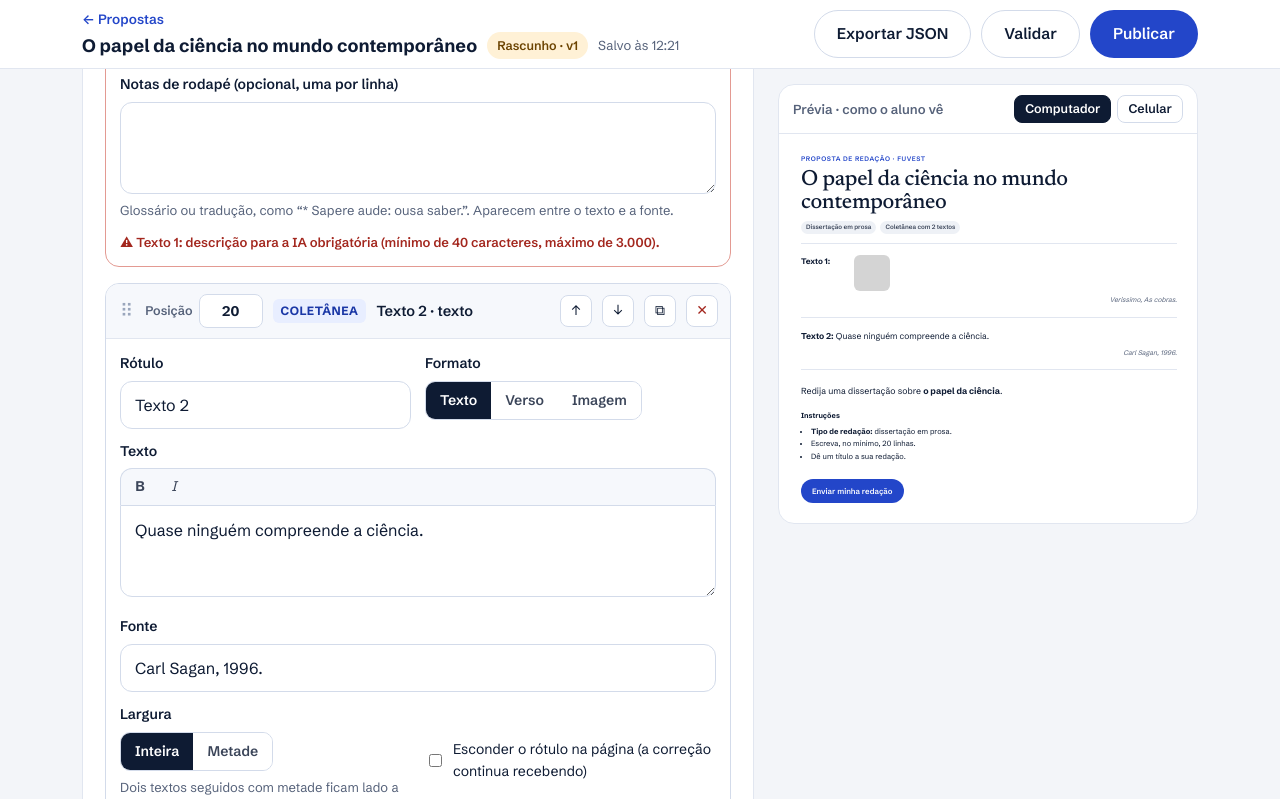
Scenario: Editor da proposta › o formato do texto da coletânea troca os campos do cartão
(page scrolled)
Expected: the text box labelled "Texto" holds "Quase ninguém compreende a ciência.", [120, 505, 716, 597]
Click the radio button labelled "Verso" at [525, 400], box [491, 382, 558, 419]
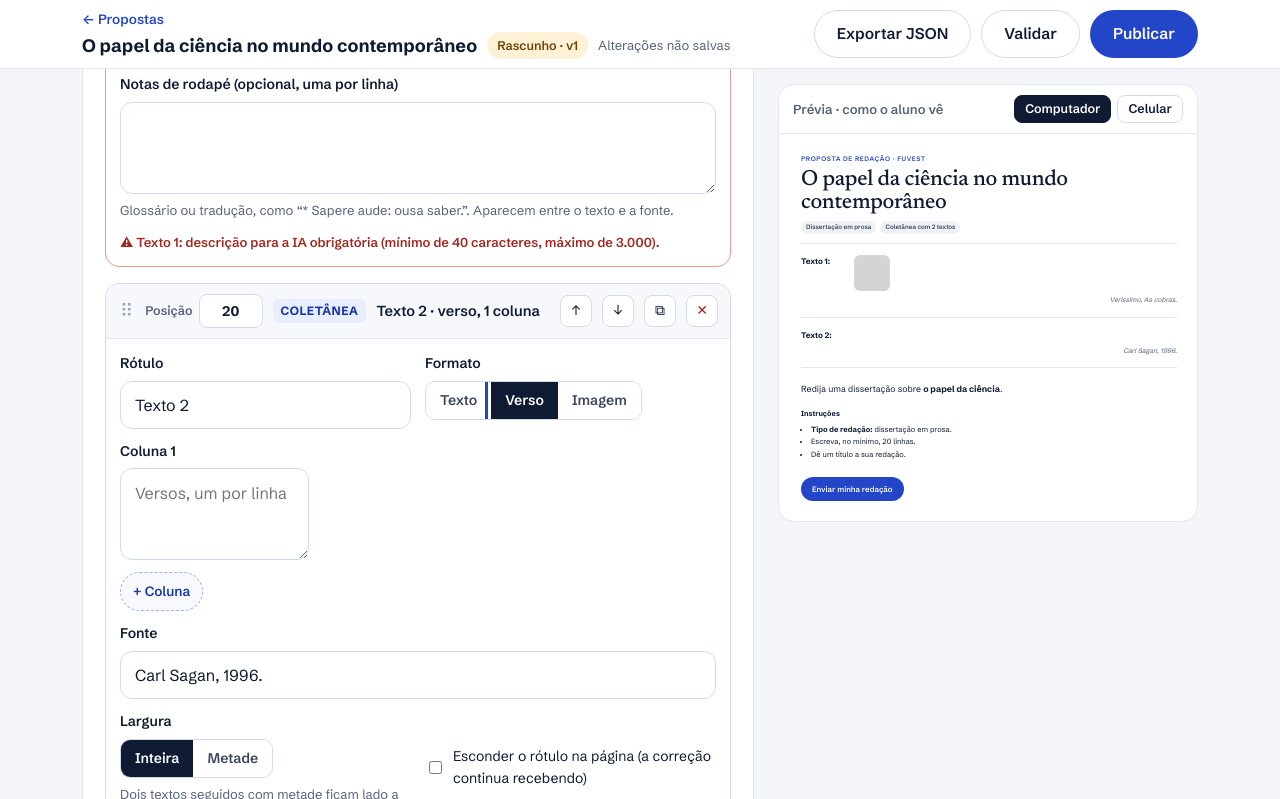
Expected: the text box labelled "Coluna 1" is shown, [120, 468, 309, 560]
Click the button "+ Coluna" at [162, 592], box [120, 572, 203, 611]
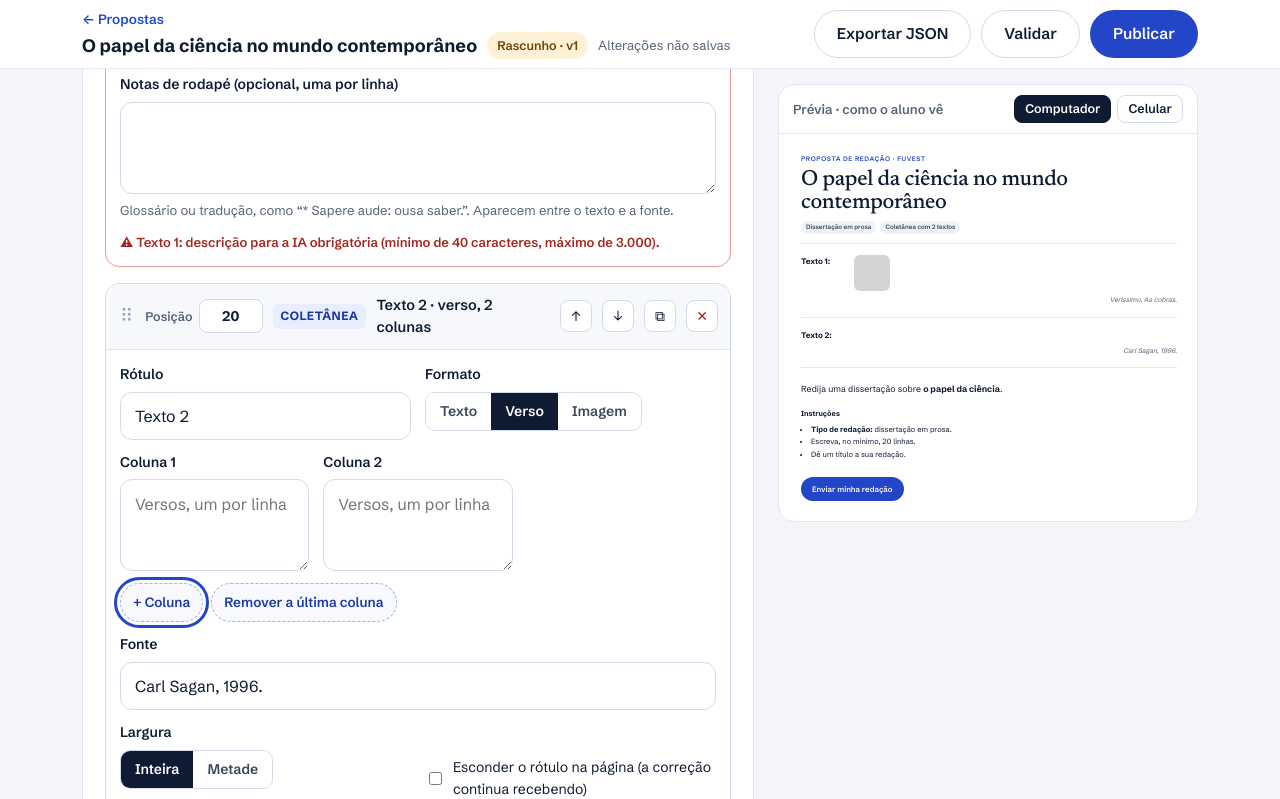
Expected: the text box labelled "Coluna 2" is shown, [323, 479, 513, 571]
Expected: the text "Texto 2 · verso, 2 colunas" is shown, [376, 296, 492, 336]
Click the radio button labelled "Imagem" at [599, 411], box [558, 393, 641, 430]
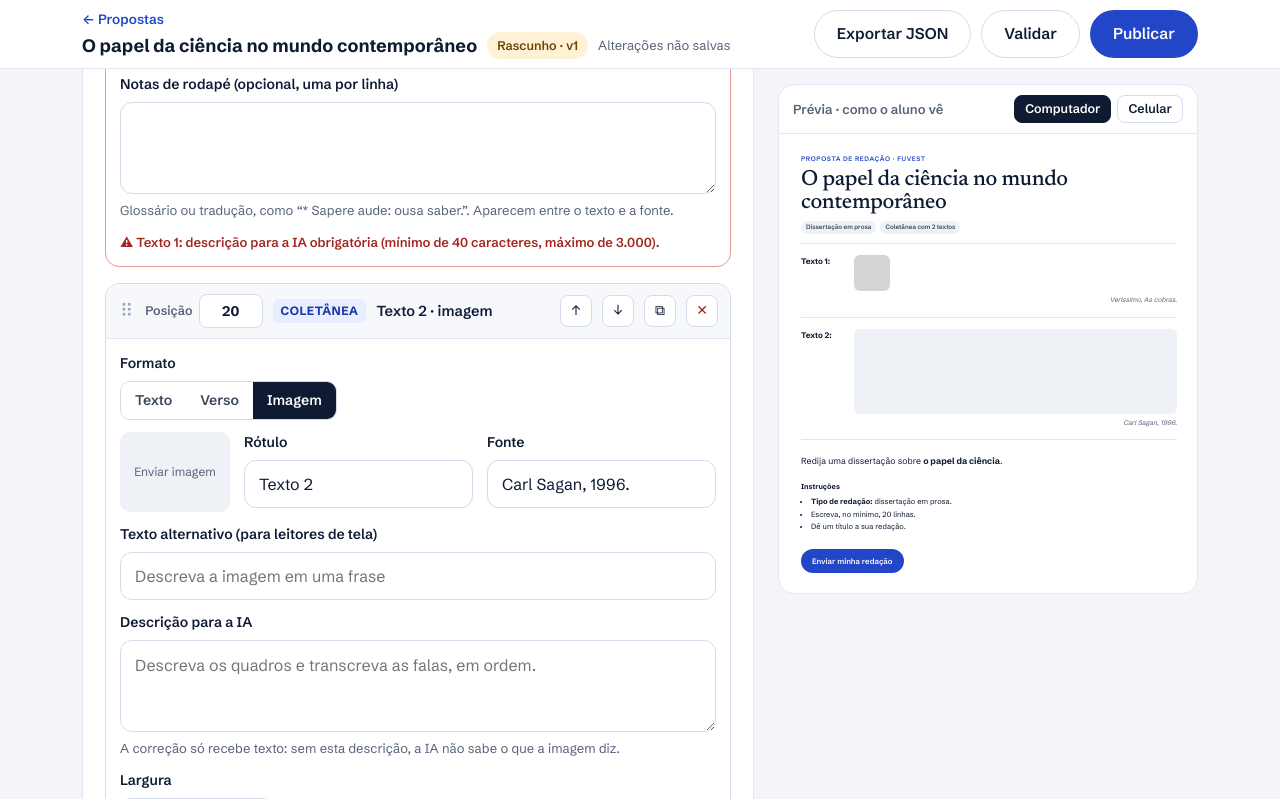
Expected: the field labelled "Texto alternativo (para leitores de tela)" is shown, [120, 552, 716, 600]
Expected: the text box labelled "Descrição para a IA" is shown, [120, 640, 716, 732]
Expected: the button "Enviar imagem" is shown, [120, 432, 230, 512]
